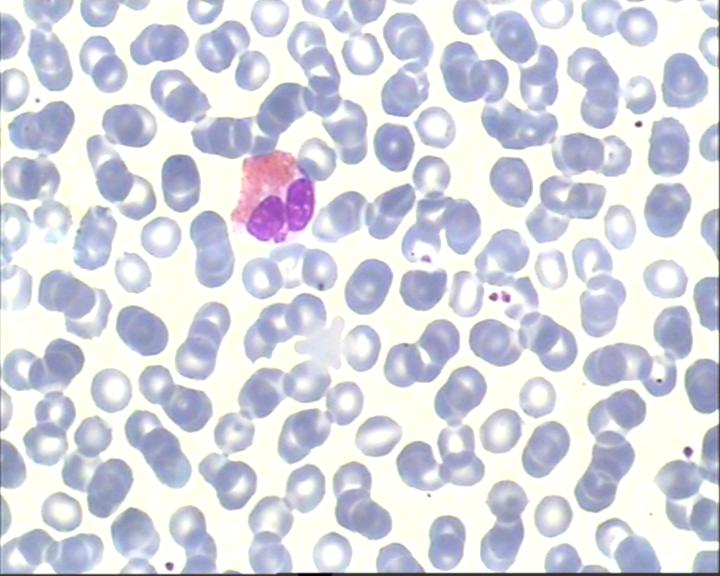eosi: (222, 146, 319, 243)
